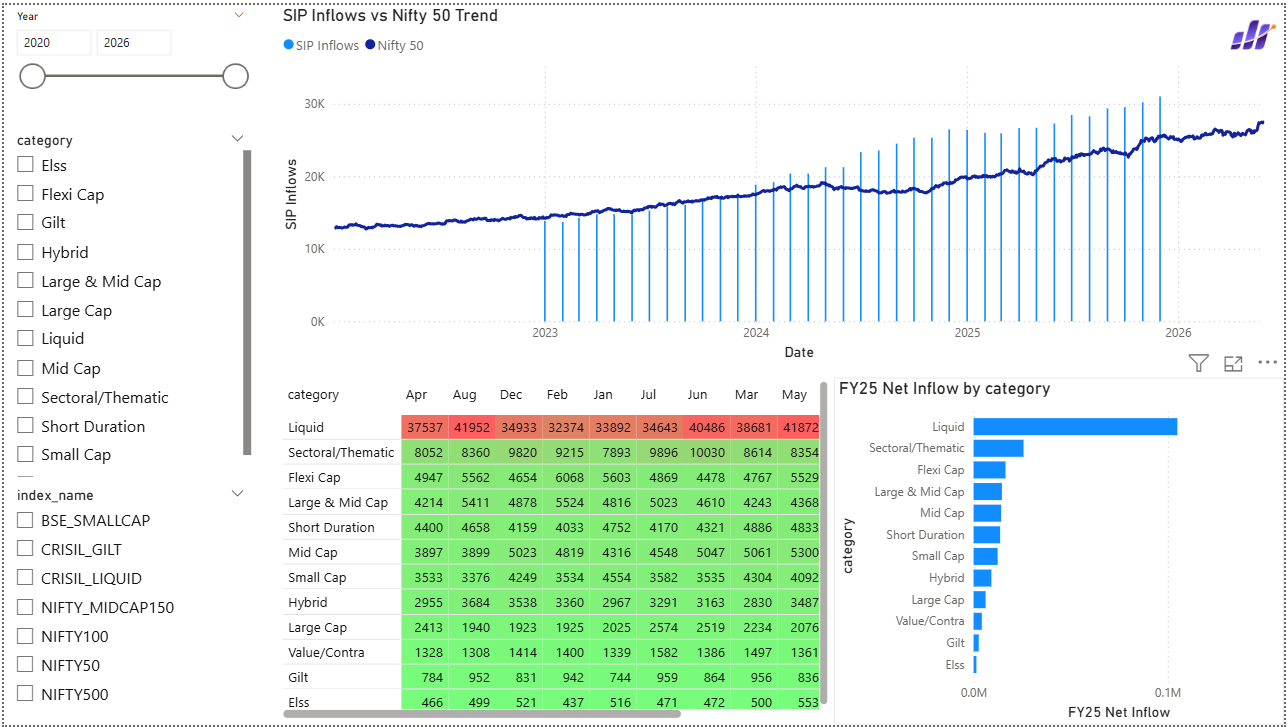

The page's visual inventory and layout, read from the dashboard file:
{"tool":"powerbi","page":{"name":"SIP and market Trends","canvas":[1280,720],"ordinal":3},"visuals":[{"type":"lineClusteredColumnComboChart","title":"SIP Inflows vs Nifty 50 Trend","fields":{"Category":["DateTable.Date"],"Y":["cleaned_monthly_sip_inflows.SIP Inflows"],"Y2":["cleaned_benchmark_indices.Nifty 50"]},"box":[274.3,0,1005.7,360],"z":0},{"type":"pivotTable","fields":{"Rows":["cleaned_category_inflows.category"],"Values":["cleaned_category_inflows.Net Inflow"],"Columns":["DateTable.Month"]},"box":[274.3,371.4,555.7,347.1],"z":1000},{"type":"clusteredBarChart","fields":{"Category":["cleaned_category_inflows.category"],"Y":["cleaned_category_inflows.FY25 Net Inflow"]},"box":[830,372.5,450,347.5],"z":2000},{"type":"slicer","fields":{"Values":["DateTable.Year"]},"box":[0,0,252.5,121.2],"z":3000},{"type":"slicer","fields":{"Values":["cleaned_category_inflows.category"]},"box":[0,121.2,252.5,355],"z":4000},{"type":"slicer","fields":{"Values":["cleaned_benchmark_indices.index_name"]},"box":[0,476.2,252.5,243.8],"z":5000},{"type":"image","box":[1217.1,0,62.9,60],"z":6501}]}

Visuals, with their boxes on the page's 1280x720 design canvas (x1, y1, x2, y2). These are canvas units, not pixel positions in the 1288x727 screenshot, which may show the page scaled, cropped or inside an application window:
"SIP Inflows vs Nifty 50 Trend" lineClusteredColumnComboChart: 274 0 1280 360
pivotTable - cleaned_category_inflows.category x cleaned_category_inflows.Net Inflow: 274 371 830 718
clusteredBarChart - cleaned_category_inflows.category x cleaned_category_inflows.FY25 Net Inflow: 830 372 1280 720
slicer - DateTable.Year: 0 0 252 121
slicer - cleaned_category_inflows.category: 0 121 252 476
slicer - cleaned_benchmark_indices.index_name: 0 476 252 720
image: 1217 0 1280 60
